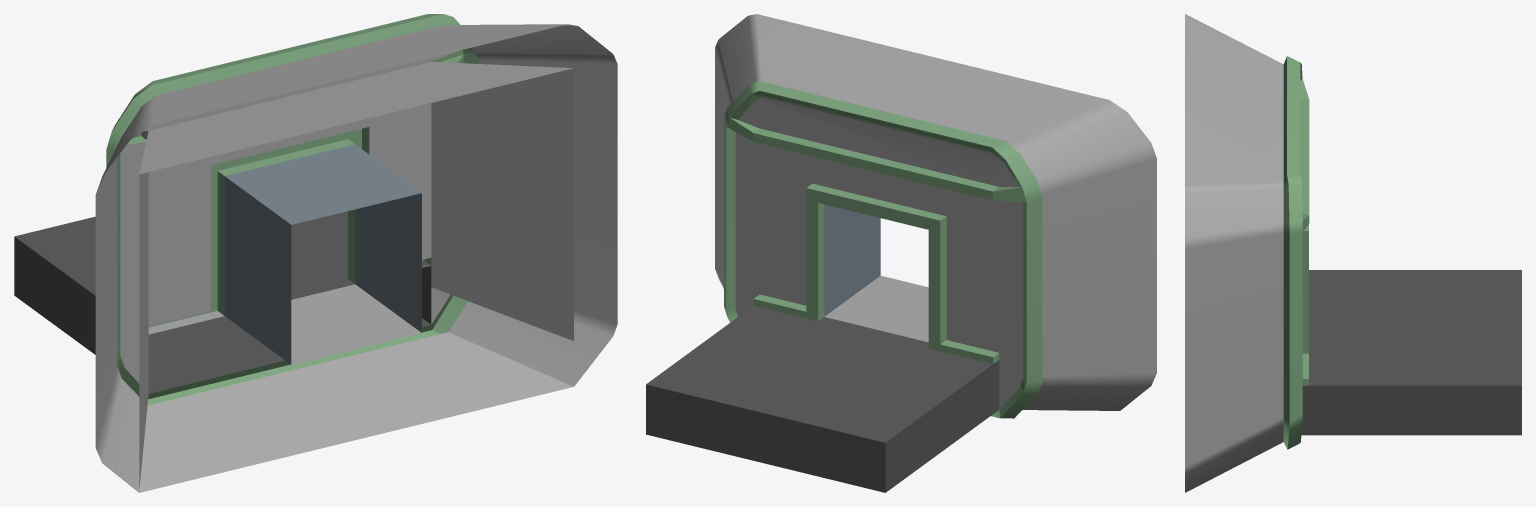
The model's file is ExteriorBase_Door.fbx.
3 renders of one model, left to right at view 1: azimuth 30°, elevation 25°; view 2: azimuth 150°, elevation 25°; view 3: azimuth 270°, elevation 25°, orthographic. The views are drawn at different scales.
Visible parts, largest first — view 1: polySurface2; view 2: polySurface2; view 3: polySurface2.
Boxes of the visible parts, bbox=[...] form: polySurface2: bbox=[14, 14, 617, 492]; polySurface2: bbox=[646, 14, 1156, 492]; polySurface2: bbox=[1185, 14, 1521, 492].
Bounding box in the file's own units: 1200 × 800 × 800.
